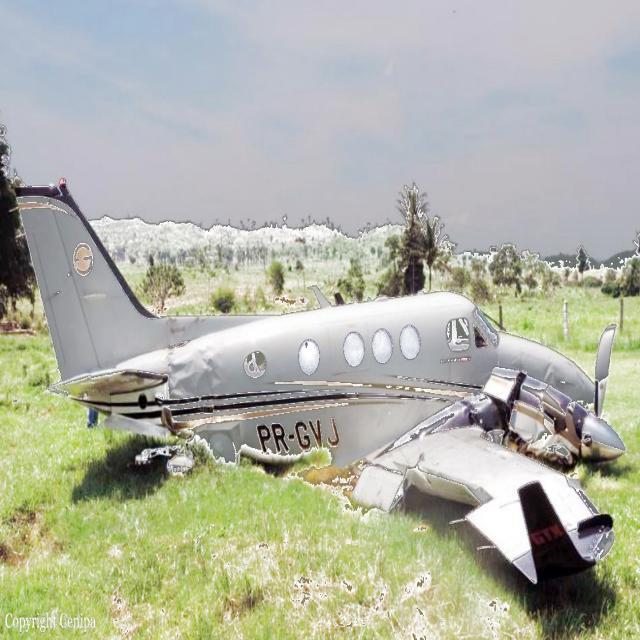dent: (163, 339, 233, 427)
